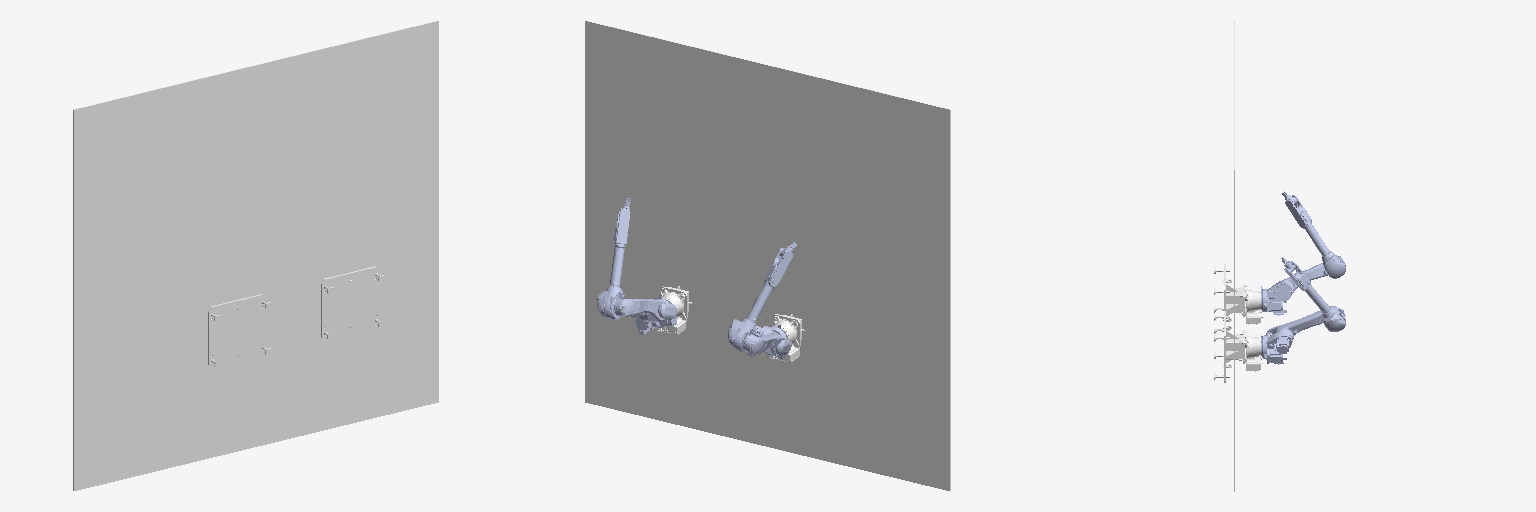
URDF robot description (dual_RS006L):
<?xml version="1.0" encoding="utf-8"?>
<!-- This URDF was automatically created by SolidWorks to URDF Exporter! Originally created by [author] ([email redacted]) 
     Commit Version: 1.6.0-1-g15f4949  Build Version: 1.6.7594.29634
     For more information, please see http://wiki.ros.org/sw_urdf_exporter -->
<robot
  name="dual_RS006L">
  <link
    name="world">
    <inertial>
      <origin
        xyz="-0.3413 0.49115 -0.23034"
        rpy="0 0 0" />
      <mass
        value="160" />
      <inertia
        ixx="0"
        ixy="0"
        ixz="0"
        iyy="0"
        iyz="0"
        izz="0" />
    </inertial>
    <visual>
      <origin
        xyz="0 0 0"
        rpy="0 0 0" />
      <geometry>
        <mesh
          filename="package://dual_RS006L/meshes/world.STL" />
      </geometry>
      <material
        name="">
        <color
          rgba="1 1 1 1" />
      </material>
    </visual>
    <collision>
      <origin
        xyz="0 0 0"
        rpy="0 0 0" />
      <geometry>
        <mesh
          filename="package://dual_RS006L/meshes/world.STL" />
      </geometry>
    </collision>
  </link>
  <link
    name="left_base_link">
    <inertial>
      <origin
        xyz="0.31999 0.05784 -0.20588"
        rpy="0 0 0" />
      <mass
        value="89718" />
      <inertia
        ixx="0"
        ixy="0"
        ixz="0"
        iyy="0"
        iyz="0"
        izz="0" />
    </inertial>
    <visual>
      <origin
        xyz="0 0 0"
        rpy="0 0 0" />
      <geometry>
        <mesh
          filename="package://dual_RS006L/meshes/left_base_link.STL" />
      </geometry>
      <material
        name="">
        <color
          rgba="1 1 1 1" />
      </material>
    </visual>
    <collision>
      <origin
        xyz="0 0 0"
        rpy="0 0 0" />
      <geometry>
        <mesh
          filename="package://dual_RS006L/meshes/left_base_link.STL" />
      </geometry>
    </collision>
  </link>
  <joint
    name="joint_left_world2base"
    type="fixed">
    <origin
      xyz="-0.81542 0.37215 -1.2303"
      rpy="0 -1.5708 0" />
    <parent
      link="world" />
    <child
      link="left_base_link" />
    <axis
      xyz="0 0 0" />
  </joint>
  <link
    name="left_ax1_link">
    <inertial>
      <origin
        xyz="-0.0110267668414822 0.0275266571302226 0.155775967646813"
        rpy="0 0 0" />
      <mass
        value="16.3852569222443" />
      <inertia
        ixx="0.166667166721534"
        ixy="-0.00677726239836003"
        ixz="-0.0181045931144192"
        iyy="0.190317343914555"
        iyz="-0.0370066794668489"
        izz="0.17023089947442" />
    </inertial>
    <visual>
      <origin
        xyz="0 0 0"
        rpy="0 0 0" />
      <geometry>
        <mesh
          filename="package://dual_RS006L/meshes/left_ax1_link.STL" />
      </geometry>
      <material
        name="">
        <color
          rgba="0.792156862745098 0.819607843137255 0.933333333333333 1" />
      </material>
    </visual>
    <collision>
      <origin
        xyz="0 0 0"
        rpy="0 0 0" />
      <geometry>
        <mesh
          filename="package://dual_RS006L/meshes/left_ax1_link.STL" />
      </geometry>
    </collision>
  </link>
  <joint
    name="joint_left_ax1"
    type="revolute">
    <origin
      xyz="0.32 0.414 -0.20588"
      rpy="1.5708 -1.3032 3.1416" />
    <parent
      link="left_base_link" />
    <child
      link="left_ax1_link" />
    <axis
      xyz="0 0 1" />
    <limit
      lower="0"
      upper="0"
      effort="0"
      velocity="0" />
  </joint>
  <link
    name="left_ax2_link">
    <inertial>
      <origin
        xyz="0.114261981989223 0.0114834545925739 0.281924885873274"
        rpy="0 0 0" />
      <mass
        value="13.2263278217104" />
      <inertia
        ixx="0.907903650865628"
        ixy="-0.00159870603611018"
        ixz="-0.0714132755138986"
        iyy="0.900004466664176"
        iyz="-0.00127192738240511"
        izz="0.0507672101715723" />
    </inertial>
    <visual>
      <origin
        xyz="0 0 0"
        rpy="0 0 0" />
      <geometry>
        <mesh
          filename="package://dual_RS006L/meshes/left_ax2_link.STL" />
      </geometry>
      <material
        name="">
        <color
          rgba="0.792156862745098 0.819607843137255 0.933333333333333 1" />
      </material>
    </visual>
    <collision>
      <origin
        xyz="0 0 0"
        rpy="0 0 0" />
      <geometry>
        <mesh
          filename="package://dual_RS006L/meshes/left_ax2_link.STL" />
      </geometry>
    </collision>
  </link>
  <joint
    name="joint_left_ax2"
    type="revolute">
    <origin
      xyz="0 0.1 0.256"
      rpy="-0.43364 0 0" />
    <parent
      link="left_ax1_link" />
    <child
      link="left_ax2_link" />
    <axis
      xyz="1 0 0" />
    <limit
      lower="0"
      upper="0"
      effort="0"
      velocity="0" />
  </joint>
  <link
    name="left_ax3_link">
    <inertial>
      <origin
        xyz="-0.0249576045906602 -0.000815128768668516 0.0353268993208122"
        rpy="0 0 0" />
      <mass
        value="9.66718520982022" />
      <inertia
        ixx="0.0798592731195725"
        ixy="0.000397517509318337"
        ixz="0.00118273694136779"
        iyy="0.0824079564700508"
        iyz="1.26176891650179E-05"
        izz="0.0575349744128187" />
    </inertial>
    <visual>
      <origin
        xyz="0 0 0"
        rpy="0 0 0" />
      <geometry>
        <mesh
          filename="package://dual_RS006L/meshes/left_ax3_link.STL" />
      </geometry>
      <material
        name="">
        <color
          rgba="0.792156862745098 0.819607843137255 0.933333333333333 1" />
      </material>
    </visual>
    <collision>
      <origin
        xyz="0 0 0"
        rpy="0 0 0" />
      <geometry>
        <mesh
          filename="package://dual_RS006L/meshes/left_ax3_link.STL" />
      </geometry>
    </collision>
  </link>
  <joint
    name="joint_left_ax3"
    type="revolute">
    <origin
      xyz="0 0 0.65"
      rpy="-1.711 0 0" />
    <parent
      link="left_ax2_link" />
    <child
      link="left_ax3_link" />
    <axis
      xyz="1 0 0" />
    <limit
      lower="0"
      upper="0"
      effort="0"
      velocity="0" />
  </joint>
  <link
    name="left_ax4_link">
    <inertial>
      <origin
        xyz="-7.93535487122465E-05 -0.00102852916519869 0.171751898781854"
        rpy="0 0 0" />
      <mass
        value="6.72457696941017" />
      <inertia
        ixx="0.277474435704164"
        ixy="3.15778769945096E-07"
        ixz="0.000243710368440968"
        iyy="0.280154001895505"
        iyz="0.00088653832393662"
        izz="0.0126328437993867" />
    </inertial>
    <visual>
      <origin
        xyz="0 0 0"
        rpy="0 0 0" />
      <geometry>
        <mesh
          filename="package://dual_RS006L/meshes/left_ax4_link.STL" />
      </geometry>
      <material
        name="">
        <color
          rgba="0.792156862745098 0.819607843137255 0.933333333333333 1" />
      </material>
    </visual>
    <collision>
      <origin
        xyz="0 0 0"
        rpy="0 0 0" />
      <geometry>
        <mesh
          filename="package://dual_RS006L/meshes/left_ax4_link.STL" />
      </geometry>
    </collision>
  </link>
  <joint
    name="joint_left_ax4"
    type="revolute">
    <origin
      xyz="0 0 0.399209584669504"
      rpy="0 0 -0.676756222163231" />
    <parent
      link="left_ax3_link" />
    <child
      link="left_ax4_link" />
    <axis
      xyz="0 0 1" />
    <limit
      lower="0"
      upper="0"
      effort="0"
      velocity="0" />
  </joint>
  <link
    name="left_ax5_link">
    <inertial>
      <origin
        xyz="0.000394304484445884 2.73581365420883E-05 0.0194996642964657"
        rpy="0 0 0" />
      <mass
        value="0.516713841833942" />
      <inertia
        ixx="0.0007381513575246"
        ixy="1.04750887369574E-07"
        ixz="7.31628703410563E-06"
        iyy="0.000682974172461099"
        iyz="-4.51867815873713E-07"
        izz="0.000427037926406058" />
    </inertial>
    <visual>
      <origin
        xyz="0 0 0"
        rpy="0 0 0" />
      <geometry>
        <mesh
          filename="package://dual_RS006L/meshes/left_ax5_link.STL" />
      </geometry>
      <material
        name="">
        <color
          rgba="0.792156862745098 0.819607843137255 0.933333333333333 1" />
      </material>
    </visual>
    <collision>
      <origin
        xyz="0 0 0"
        rpy="0 0 0" />
      <geometry>
        <mesh
          filename="package://dual_RS006L/meshes/left_ax5_link.STL" />
      </geometry>
    </collision>
  </link>
  <joint
    name="joint_left_ax5"
    type="revolute">
    <origin
      xyz="0 0 0.50079"
      rpy="-0.275 0 0" />
    <parent
      link="left_ax4_link" />
    <child
      link="left_ax5_link" />
    <axis
      xyz="1 0 0" />
    <limit
      lower="0"
      upper="0"
      effort="0"
      velocity="0" />
  </joint>
  <link
    name="left_ax6_link">
    <inertial>
      <origin
        xyz="-4.20254820622246E-05 2.9519830044844E-05 -0.00838049694797982"
        rpy="0 0 0" />
      <mass
        value="0.0496246873705595" />
      <inertia
        ixx="1.2860503154964E-05"
        ixy="9.720185365373E-10"
        ixz="1.75691517652092E-08"
        iyy="1.28375879657197E-05"
        iyz="-1.7258900870181E-08"
        izz="2.28536452643262E-05" />
    </inertial>
    <visual>
      <origin
        xyz="0 0 0"
        rpy="0 0 0" />
      <geometry>
        <mesh
          filename="package://dual_RS006L/meshes/left_ax6_link.STL" />
      </geometry>
      <material
        name="">
        <color
          rgba="0.792156862745098 0.819607843137255 0.933333333333333 1" />
      </material>
    </visual>
    <collision>
      <origin
        xyz="0 0 0"
        rpy="0 0 0" />
      <geometry>
        <mesh
          filename="package://dual_RS006L/meshes/left_ax6_link.STL" />
      </geometry>
    </collision>
  </link>
  <joint
    name="joint_left_ax6"
    type="revolute">
    <origin
      xyz="0 0 0.0835212487680816"
      rpy="0 0 -0.652645812290519" />
    <parent
      link="left_ax5_link" />
    <child
      link="left_ax6_link" />
    <axis
      xyz="0 0 1" />
    <limit
      lower="0"
      upper="0"
      effort="0"
      velocity="0" />
  </joint>
  <link
    name="right_base_link">
    <inertial>
      <origin
        xyz="0.31999 0.05784 -0.20588"
        rpy="0 0 0" />
      <mass
        value="89718" />
      <inertia
        ixx="0"
        ixy="0"
        ixz="0"
        iyy="0"
        iyz="0"
        izz="0" />
    </inertial>
    <visual>
      <origin
        xyz="0 0 0"
        rpy="0 0 0" />
      <geometry>
        <mesh
          filename="package://dual_RS006L/meshes/right_base_link.STL" />
      </geometry>
      <material
        name="">
        <color
          rgba="1 1 1 1" />
      </material>
    </visual>
    <collision>
      <origin
        xyz="0 0 0"
        rpy="0 0 0" />
      <geometry>
        <mesh
          filename="package://dual_RS006L/meshes/right_base_link.STL" />
      </geometry>
    </collision>
  </link>
  <joint
    name="joint_right_world2base"
    type="fixed">
    <origin
      xyz="0.42458 0.37215 -1.2303"
      rpy="0 -1.5708 0" />
    <parent
      link="world" />
    <child
      link="right_base_link" />
    <axis
      xyz="0 0 0" />
  </joint>
  <link
    name="right_ax1_Link">
    <inertial>
      <origin
        xyz="-0.0110267286251676 0.0275268069987167 -0.100224017270846"
        rpy="0 0 0" />
      <mass
        value="16.3852705908656" />
      <inertia
        ixx="0.166665248222832"
        ixy="-0.00677698280679513"
        ixz="-0.0181047436676293"
        iyy="0.190314227047763"
        iyz="-0.0370056061690362"
        izz="0.170232307576813" />
    </inertial>
    <visual>
      <origin
        xyz="0 0 0"
        rpy="0 0 0" />
      <geometry>
        <mesh
          filename="package://dual_RS006L/meshes/right_ax1_Link.STL" />
      </geometry>
      <material
        name="">
        <color
          rgba="0.792156862745098 0.819607843137255 0.933333333333333 1" />
      </material>
    </visual>
    <collision>
      <origin
        xyz="0 0 0"
        rpy="0 0 0" />
      <geometry>
        <mesh
          filename="package://dual_RS006L/meshes/right_ax1_Link.STL" />
      </geometry>
    </collision>
  </link>
  <joint
    name="joint_right_ax1"
    type="fixed">
    <origin
      xyz="0.32 0.67 -0.205879250693663"
      rpy="-1.5707963267949 -1.35857667297279 0" />
    <parent
      link="right_base_link" />
    <child
      link="right_ax1_Link" />
    <axis
      xyz="0 0 0" />
    <limit
      lower="0"
      upper="0"
      effort="0"
      velocity="0" />
  </joint>
  <link
    name="right_ax2_Link">
    <inertial>
      <origin
        xyz="0.114261936026288 0.0114835001559429 0.281924941830189"
        rpy="0 0 0" />
      <mass
        value="13.2263340883003" />
      <inertia
        ixx="0.907903542747366"
        ixy="-0.00159865940180607"
        ixz="-0.0714130772963481"
        iyy="0.900004336511573"
        iyz="-0.00127202523292762"
        izz="0.0507671912381079" />
    </inertial>
    <visual>
      <origin
        xyz="0 0 0"
        rpy="0 0 0" />
      <geometry>
        <mesh
          filename="package://dual_RS006L/meshes/right_ax2_Link.STL" />
      </geometry>
      <material
        name="">
        <color
          rgba="0.792156862745098 0.819607843137255 0.933333333333333 1" />
      </material>
    </visual>
    <collision>
      <origin
        xyz="0 0 0"
        rpy="0 0 0" />
      <geometry>
        <mesh
          filename="package://dual_RS006L/meshes/right_ax2_Link.STL" />
      </geometry>
    </collision>
  </link>
  <joint
    name="joint_right_ax2"
    type="fixed">
    <origin
      xyz="0 0.100000000000003 0"
      rpy="-0.42251014752277 0 0" />
    <parent
      link="right_ax1_Link" />
    <child
      link="right_ax2_Link" />
    <axis
      xyz="0 0 0" />
    <limit
      lower="0"
      upper="0"
      effort="0"
      velocity="0" />
  </joint>
  <link
    name="right_ax3_Link">
    <inertial>
      <origin
        xyz="-0.0249574497776761 -0.000815017329537815 0.0353267456092087"
        rpy="0 0 0" />
      <mass
        value="9.66716592507335" />
      <inertia
        ixx="0.0798594812232009"
        ixy="0.000397916611159553"
        ixz="0.0011829475279985"
        iyy="0.0824084294339308"
        iyz="1.20388691637677E-05"
        izz="0.0575351806913174" />
    </inertial>
    <visual>
      <origin
        xyz="0 0 0"
        rpy="0 0 0" />
      <geometry>
        <mesh
          filename="package://dual_RS006L/meshes/right_ax3_Link.STL" />
      </geometry>
      <material
        name="">
        <color
          rgba="0.792156862745098 0.819607843137255 0.933333333333333 1" />
      </material>
    </visual>
    <collision>
      <origin
        xyz="0 0 0"
        rpy="0 0 0" />
      <geometry>
        <mesh
          filename="package://dual_RS006L/meshes/right_ax3_Link.STL" />
      </geometry>
    </collision>
  </link>
  <joint
    name="joint_right_ax3"
    type="fixed">
    <origin
      xyz="0 0 0.650000000000011"
      rpy="-1.73802179387651 0 0" />
    <parent
      link="right_ax2_Link" />
    <child
      link="right_ax3_Link" />
    <axis
      xyz="0 0 0" />
    <limit
      lower="0"
      upper="0"
      effort="0"
      velocity="0" />
  </joint>
  <link
    name="right_ax4_Link">
    <inertial>
      <origin
        xyz="-7.92652776845926E-05 -0.00102854058766411 -0.329038319028082"
        rpy="0 0 0" />
      <mass
        value="6.72457775697355" />
      <inertia
        ixx="0.277474772407089"
        ixy="3.24399300921652E-07"
        ixz="0.00024361692874776"
        iyy="0.280154357628688"
        iyz="0.000886501442098215"
        izz="0.0126329022647675" />
    </inertial>
    <visual>
      <origin
        xyz="0 0 0"
        rpy="0 0 0" />
      <geometry>
        <mesh
          filename="package://dual_RS006L/meshes/right_ax4_Link.STL" />
      </geometry>
      <material
        name="">
        <color
          rgba="0.792156862745098 0.819607843137255 0.933333333333333 1" />
      </material>
    </visual>
    <collision>
      <origin
        xyz="0 0 0"
        rpy="0 0 0" />
      <geometry>
        <mesh
          filename="package://dual_RS006L/meshes/right_ax4_Link.STL" />
      </geometry>
    </collision>
  </link>
  <joint
    name="joint_right_ax4"
    type="fixed">
    <origin
      xyz="0 0 0.9"
      rpy="0 0 -0.855373504395469" />
    <parent
      link="right_ax3_Link" />
    <child
      link="right_ax4_Link" />
    <axis
      xyz="0 0 0" />
    <limit
      lower="0"
      upper="0"
      effort="0"
      velocity="0" />
  </joint>
  <link
    name="right_ax5_Link">
    <inertial>
      <origin
        xyz="0.000394308607740534 2.72960629669472E-05 0.0194996530355188"
        rpy="0 0 0" />
      <mass
        value="0.516714769268222" />
      <inertia
        ixx="0.000738152465896658"
        ixy="1.0483324662465E-07"
        ixz="7.31634123275902E-06"
        iyy="0.000682974282055784"
        iyz="-4.52106347622611E-07"
        izz="0.000427038784027732" />
    </inertial>
    <visual>
      <origin
        xyz="0 0 0"
        rpy="0 0 0" />
      <geometry>
        <mesh
          filename="package://dual_RS006L/meshes/right_ax5_Link.STL" />
      </geometry>
      <material
        name="">
        <color
          rgba="0.792156862745098 0.819607843137255 0.933333333333333 1" />
      </material>
    </visual>
    <collision>
      <origin
        xyz="0 0 0"
        rpy="0 0 0" />
      <geometry>
        <mesh
          filename="package://dual_RS006L/meshes/right_ax5_Link.STL" />
      </geometry>
    </collision>
  </link>
  <joint
    name="joint_right_ax5"
    type="fixed">
    <origin
      xyz="0 0 0"
      rpy="-0.156082422981834 0 0" />
    <parent
      link="right_ax4_Link" />
    <child
      link="right_ax5_Link" />
    <axis
      xyz="0 0 0" />
    <limit
      lower="0"
      upper="0"
      effort="0"
      velocity="0" />
  </joint>
  <link
    name="right_ax6_Link">
    <inertial>
      <origin
        xyz="-4.20247697348053E-05 2.95145162357291E-05 -0.0118497505520727"
        rpy="0 0 0" />
      <mass
        value="0.0496306010021214" />
      <inertia
        ixx="1.28604747412209E-05"
        ixy="1.38676066052576E-09"
        ixz="1.75725088560889E-08"
        iyy="1.2838573189094E-05"
        iyz="-1.72563963793154E-08"
        izz="2.28538168990932E-05" />
    </inertial>
    <visual>
      <origin
        xyz="0 0 0"
        rpy="0 0 0" />
      <geometry>
        <mesh
          filename="package://dual_RS006L/meshes/right_ax6_Link.STL" />
      </geometry>
      <material
        name="">
        <color
          rgba="0.792156862745098 0.819607843137255 0.933333333333333 1" />
      </material>
    </visual>
    <collision>
      <origin
        xyz="0 0 0"
        rpy="0 0 0" />
      <geometry>
        <mesh
          filename="package://dual_RS006L/meshes/right_ax6_Link.STL" />
      </geometry>
    </collision>
  </link>
  <joint
    name="joint_right_ax6"
    type="fixed">
    <origin
      xyz="0 0 0.0870000000000184"
      rpy="0 0 1.83666402814914" />
    <parent
      link="right_ax5_Link" />
    <child
      link="right_ax6_Link" />
    <axis
      xyz="0 0 0" />
    <limit
      lower="0"
      upper="0"
      effort="0"
      velocity="0" />
  </joint>
</robot>

--- Facts derived from the render (not from the file) ---
Views: 3 orthographic renders of the robot side by side, from view 1: azimuth 30°, elevation 25°; view 2: azimuth 150°, elevation 25°; view 3: azimuth 270°, elevation 25°.
Robot: dual_RS006L — 15 links, 14 joints (6 revolute, 8 fixed); root link world; default pose: every joint at zero.
Links seen in each view (by area): view 1: world, left_base_link, right_base_link; view 2: world, left_ax4_link, right_ax4_Link, right_base_link, left_base_link, right_ax2_Link, right_ax1_Link, left_ax2_link, left_ax3_link, right_ax3_Link; view 3: right_base_link, left_base_link, right_ax1_Link, left_ax1_link, left_ax4_link, right_ax4_Link, right_ax2_Link.
Boxes of the visible links, x1,y1,x2,y2 form: world: (73,21,438,490); left_base_link: (208,294,272,368); right_base_link: (321,266,385,340); world: (585,21,950,490); left_ax4_link: (746,248,792,322); right_ax4_Link: (610,208,630,287); right_base_link: (651,286,692,334); left_base_link: (763,314,805,361); right_ax2_Link: (614,299,665,321); right_ax1_Link: (631,295,676,334); left_ax2_link: (743,331,784,355); left_ax3_link: (728,318,757,351); right_ax3_Link: (597,286,624,319); right_base_link: (1214,311,1262,382); left_base_link: (1214,264,1262,333); right_ax1_Link: (1261,325,1293,364); left_ax1_link: (1261,282,1293,315); left_ax4_link: (1285,195,1329,255); right_ax4_Link: (1284,261,1329,312); right_ax2_Link: (1274,306,1343,335).
Size in the robot's own frame: 4 by 1.5 by 4 metres.
Meshes: 15 distinct files referenced, 15 mesh visuals loaded (15 binary STL).